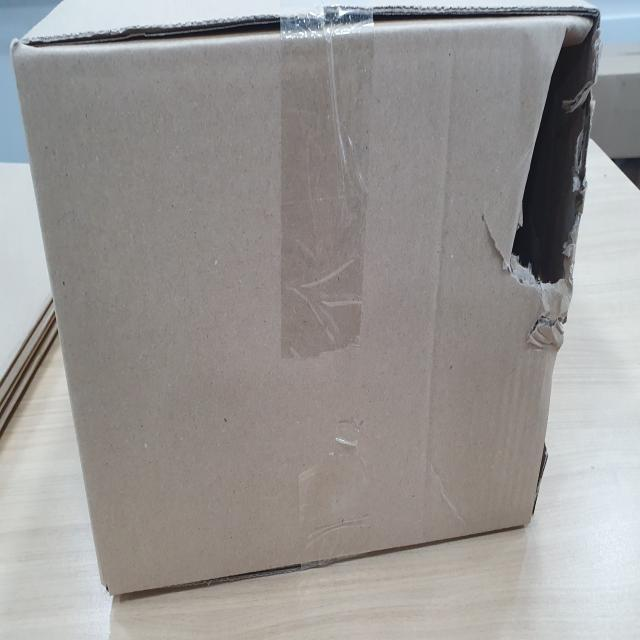hole: (505, 26, 596, 306)
